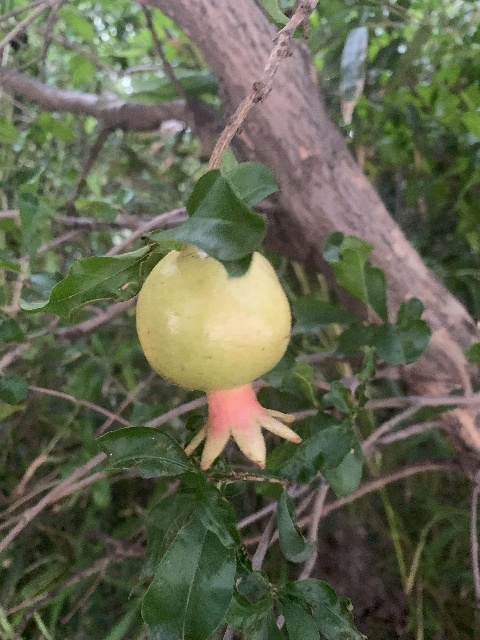mid-growth: (133, 239, 299, 473)
